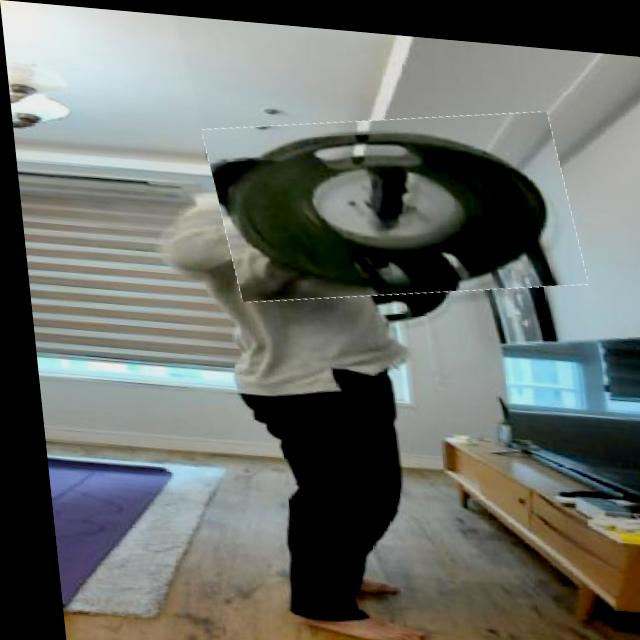barbell: (202, 91, 582, 312)
